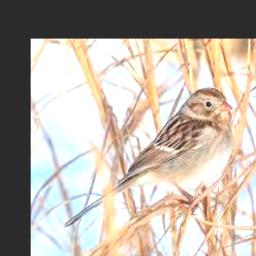Sparrow: (65, 87, 233, 228)
